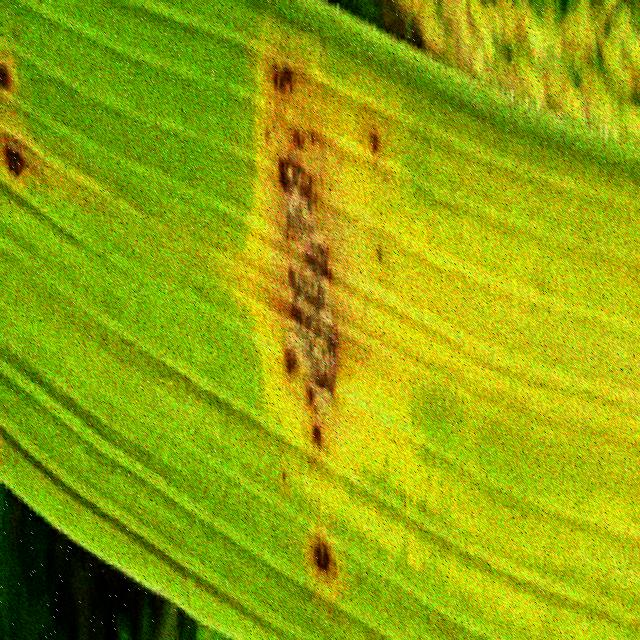NBS: (308, 537, 337, 566), (0, 143, 22, 177), (0, 58, 11, 90)
